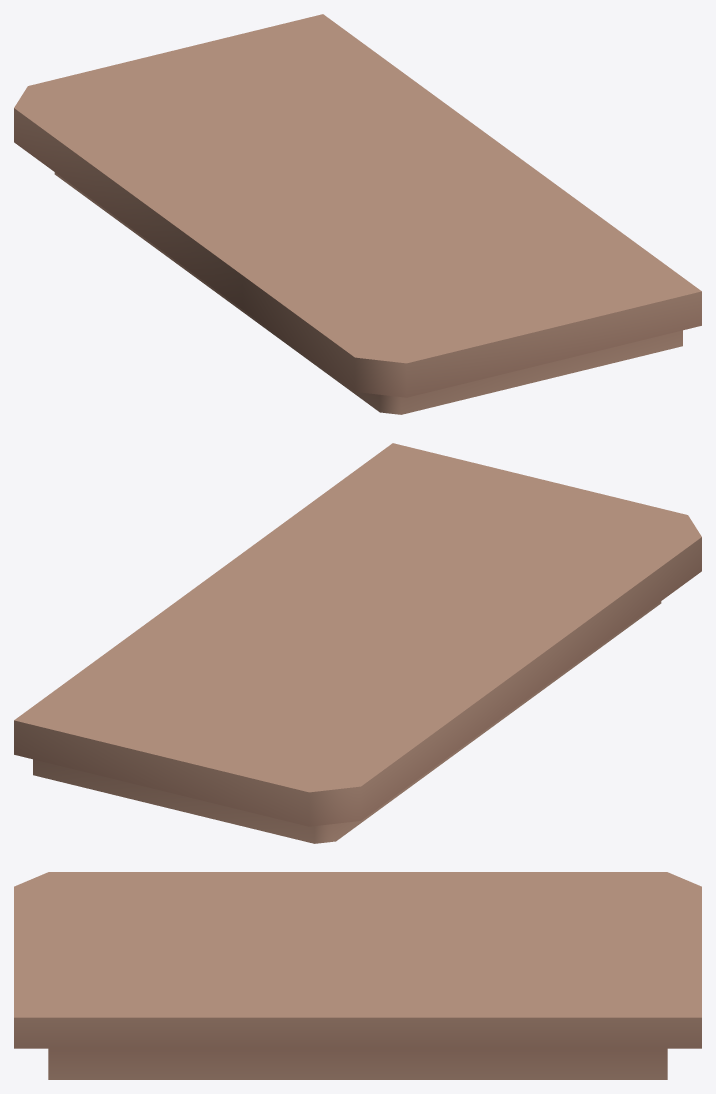
Rendered from half-surface-edge.glb.
3 renders of one model, top to bottom at view 1: azimuth 30°, elevation 25°; view 2: azimuth 150°, elevation 25°; view 3: azimuth 270°, elevation 25°, orthographic. The views are drawn at different scales.
Visible parts, largest first — view 1: half-surface-edge; view 2: half-surface-edge; view 3: half-surface-edge.
Part boxes in pixels (bbox=[...]): half-surface-edge: bbox=[14, 14, 701, 414]; half-surface-edge: bbox=[14, 443, 701, 843]; half-surface-edge: bbox=[14, 872, 701, 1079].
Size of the model in its own units: 0.5 by 0.1 by 1.
